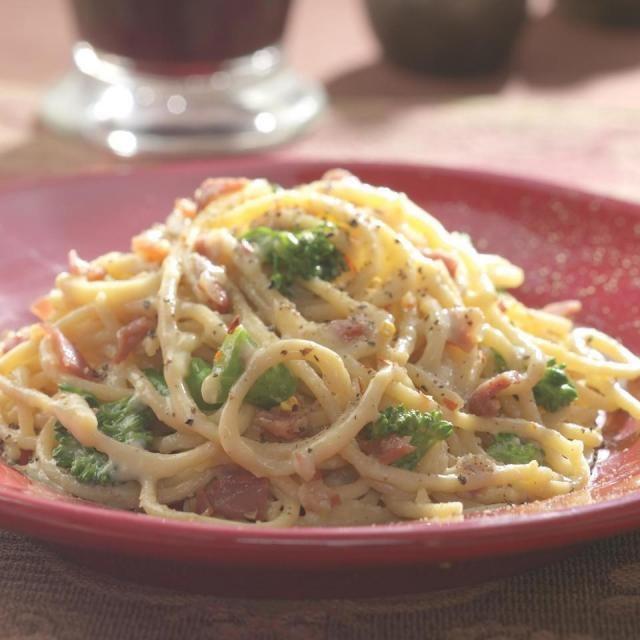Pasta with carbonara sauce: (17, 105, 639, 587)
